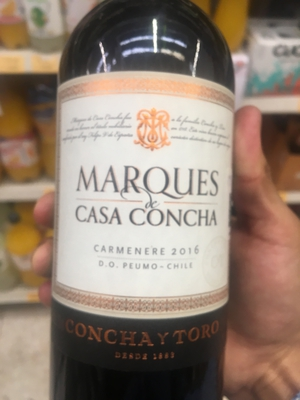marques de casa concha carmenere: (39, 17, 247, 384)
